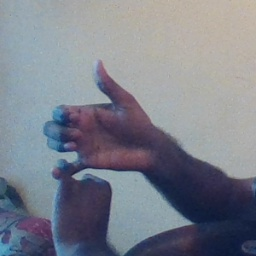S: (37, 58, 159, 227)
